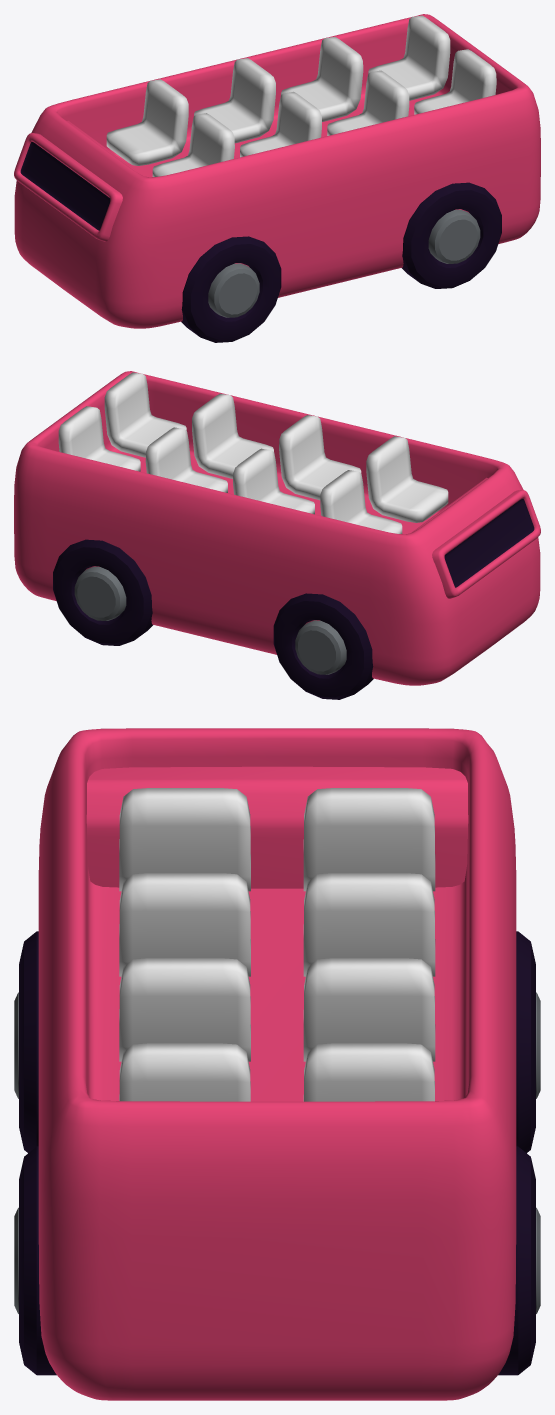
Rendered from car_l_2.fbx.
3 renders of one model, top to bottom at view 1: azimuth 30°, elevation 25°; view 2: azimuth 150°, elevation 25°; view 3: azimuth 270°, elevation 25°, orthographic. The views are drawn at different scales.
Visible parts, largest first — view 1: Cube.033, Cube.031, Cylinder.006, Cube.036; view 2: Cube.033, Cube.031, Cylinder.006, Cube.036; view 3: Cube.033, Cube.031, Cylinder.006.
Boxes of the visible parts, x1=… form: Cube.033: x1=14, y1=14, x2=540, y2=328; Cube.031: x1=106, y1=15, x2=496, y2=176; Cylinder.006: x1=181, y1=182, x2=501, y2=342; Cube.036: x1=20, y1=142, x2=110, y2=230; Cube.033: x1=14, y1=371, x2=540, y2=685; Cube.031: x1=58, y1=372, x2=448, y2=533; Cylinder.006: x1=53, y1=539, x2=373, y2=699; Cube.036: x1=444, y1=499, x2=534, y2=587; Cube.033: x1=38, y1=728, x2=516, y2=1400; Cube.031: x1=119, y1=788, x2=435, y2=1101; Cylinder.006: x1=14, y1=931, x2=540, y2=1375.
Size of the model in its own units: 422 by 173 by 220.
